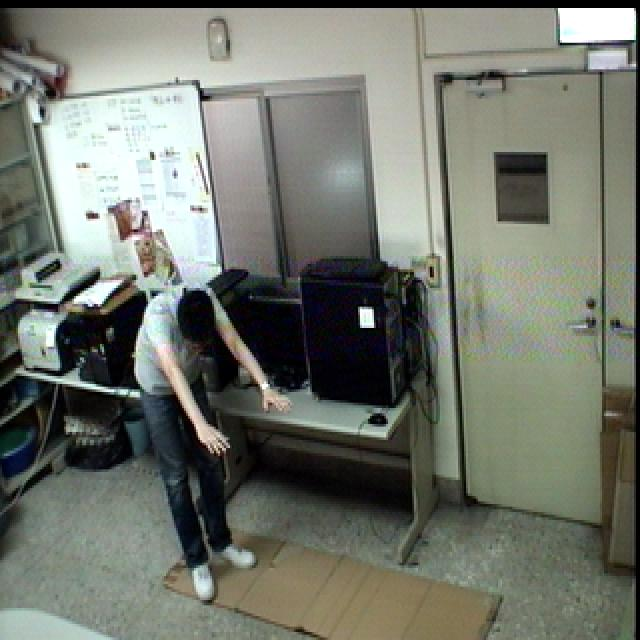bend: (128, 278, 290, 611)
